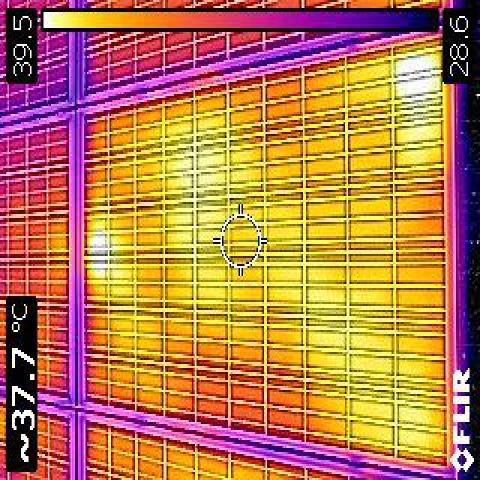fault: (394, 49, 440, 98), (88, 231, 110, 271)
